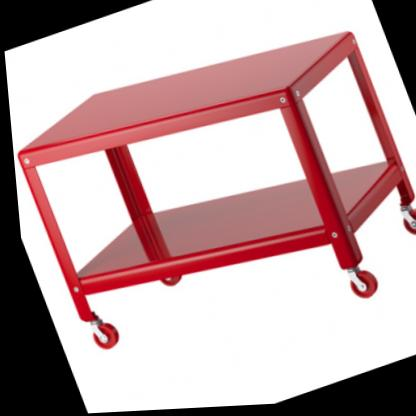Table: (1, 0, 416, 397)
